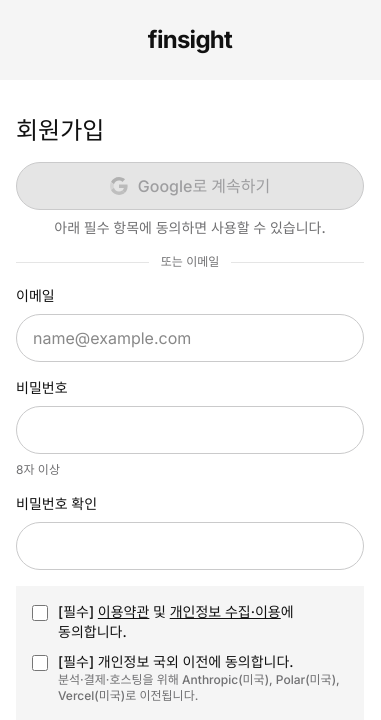
Test: 동의 검증은 버튼을 우회한 폼 제출에도 적용된다
Type "new@example.com" into the field labelled "이메일" at [190, 338], box [16,314,364,362]
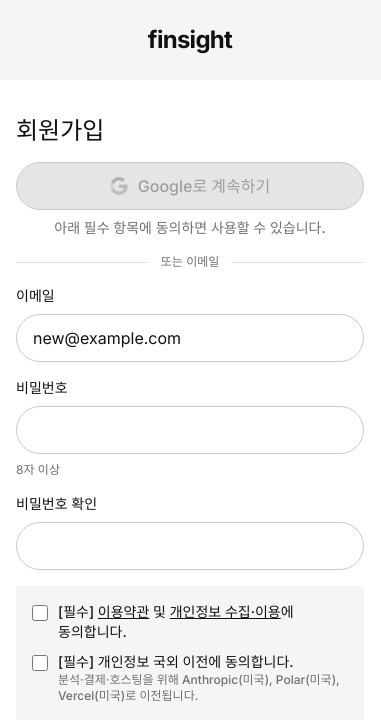
Type "password123" into the password field labelled "비밀번호" at [190, 430], box [16,406,364,454]
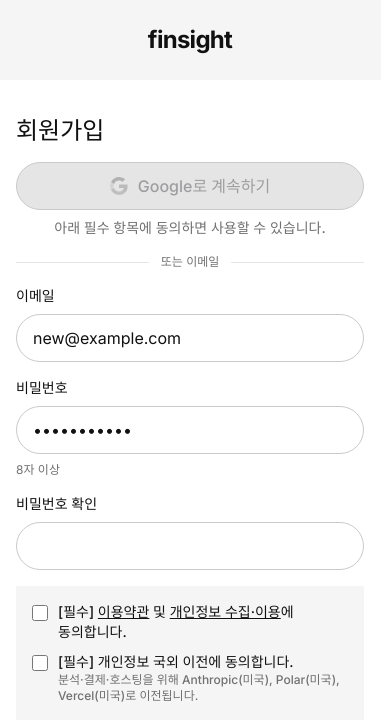
Type "password123" into the password field labelled "비밀번호 확인" at [190, 546], box [16,522,364,570]
(page scrolled)
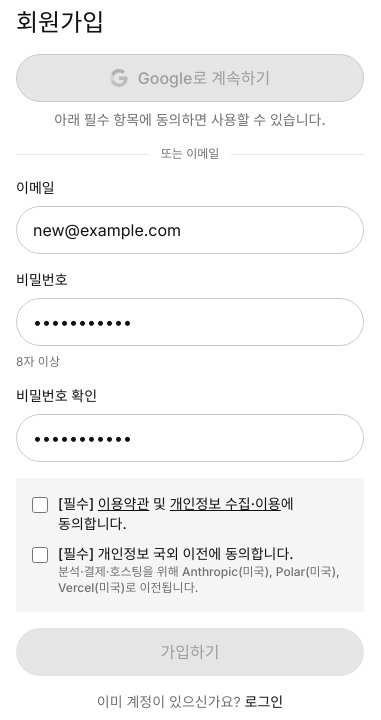
Submit the form named "가입하기"
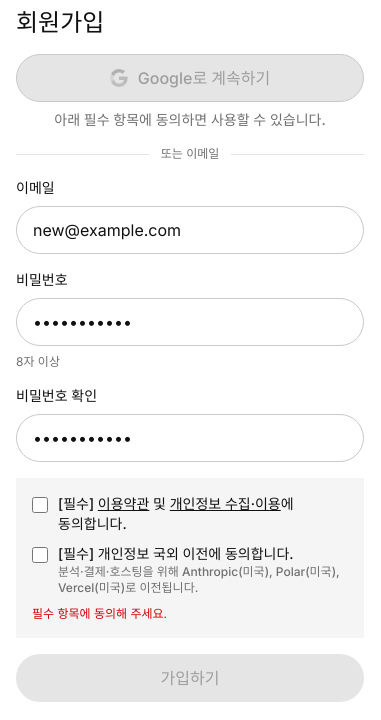
Now the text "필수 항목에 동의해 주세요." is shown, box [32,606,167,621]
